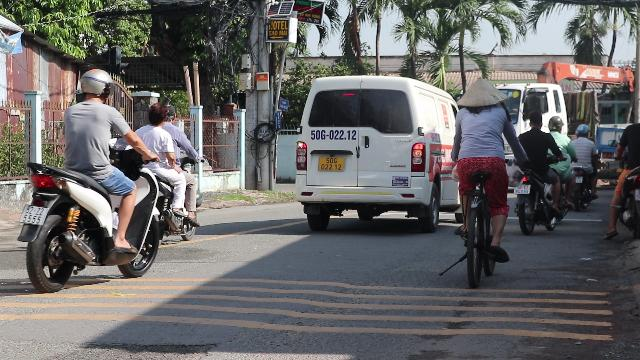helmet: (76, 68, 110, 102)
licenseplate: (19, 206, 47, 224), (515, 185, 529, 194)
motorcyclist: (15, 68, 165, 292), (132, 101, 202, 243), (512, 110, 568, 234)
nohelmet: (146, 102, 168, 126), (526, 110, 544, 130), (166, 104, 177, 124)
